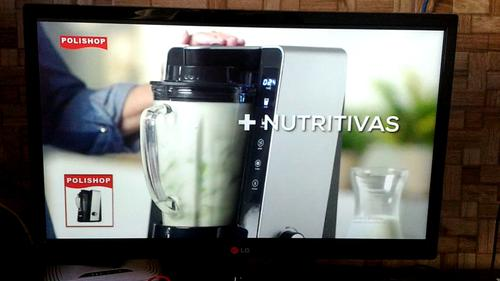Polishop #1: (54, 167, 122, 233)
